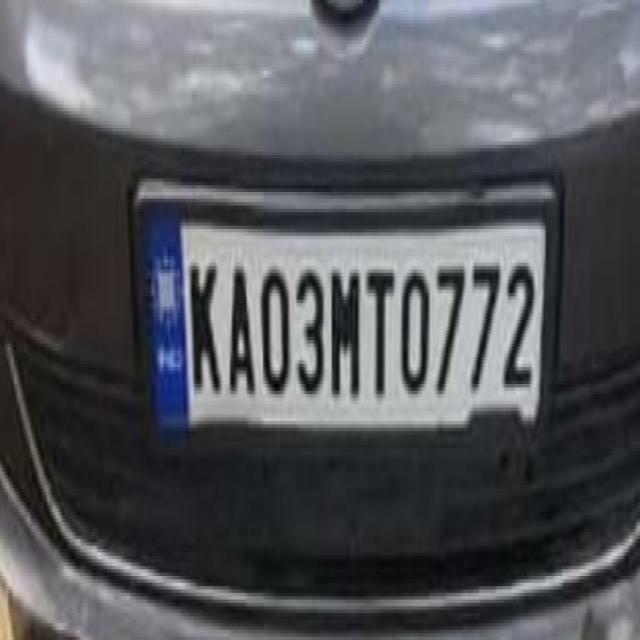0: (258, 256, 292, 404), (398, 261, 431, 398)
3: (295, 258, 328, 411)
7: (434, 254, 470, 408), (472, 243, 502, 402)
A: (225, 256, 257, 412)
K: (186, 256, 226, 404)
M: (326, 262, 362, 407)
T: (363, 258, 397, 411)
